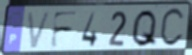2: (107, 10, 129, 48)
4: (80, 10, 101, 49)
C: (158, 7, 186, 49)
F: (49, 10, 80, 50)
Q: (129, 8, 159, 49)
V: (26, 11, 53, 52)
